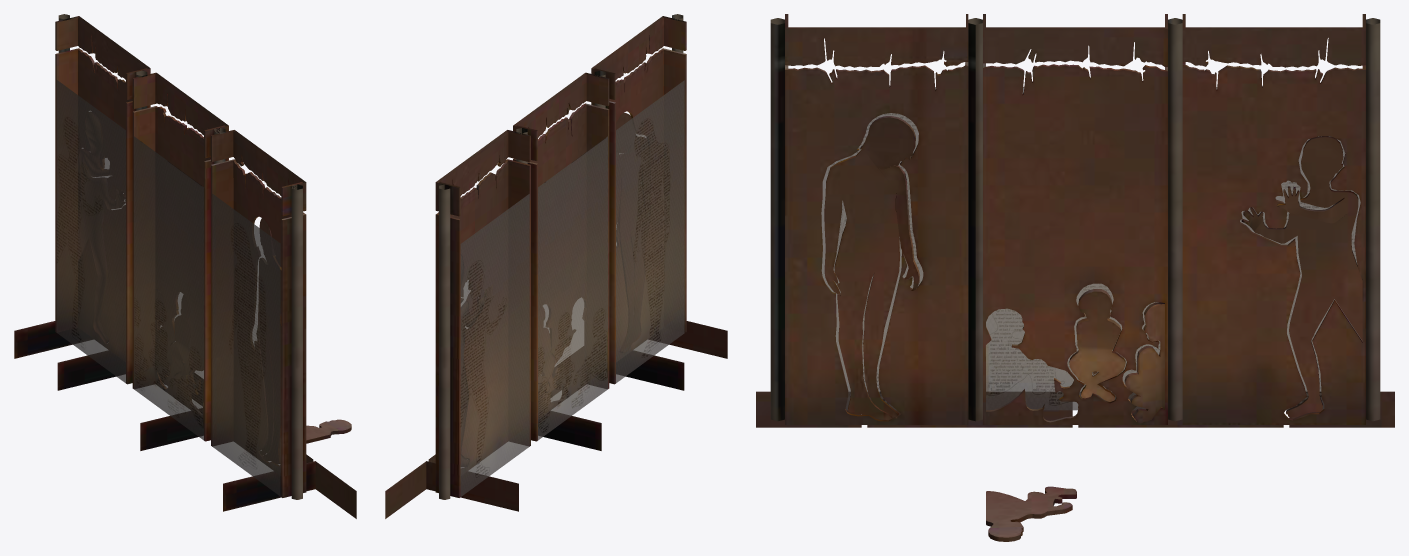
File: artwork.glb
3 renders of one model, left to right at view 1: azimuth 30°, elevation 25°; view 2: azimuth 150°, elevation 25°; view 3: azimuth 270°, elevation 25°, orthographic. The views are drawn at different scales.
Parts seen in each view (by area): view 1: polySurface43.001; view 2: polySurface43.001; view 3: polySurface43.001.
Boxes of the visible parts, box(x1,y1,x2,y2) form: polySurface43.001: box(14, 14, 356, 518); polySurface43.001: box(385, 14, 727, 518); polySurface43.001: box(756, 14, 1394, 541).
Bounding box in the file's own units: 1.32 × 2.33 × 3.11.
2 materials, 2 textured.
